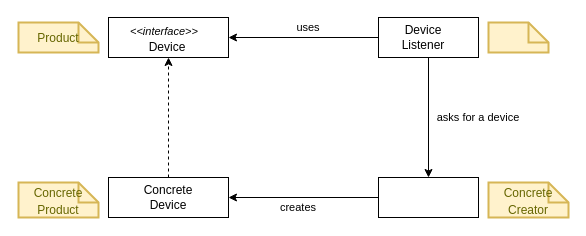
This 586x236 diagram has some shape labels left out. Each missing label, with the centre of its shape:
"Client" goes at (x=518, y=37).
"Device Factory" goes at (x=428, y=197).
